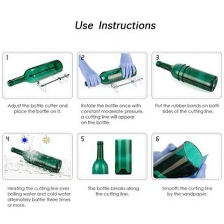bottle: (150, 57, 218, 94), (8, 142, 64, 176), (4, 58, 65, 88), (79, 63, 141, 90), (89, 137, 111, 176)
glass: (151, 138, 207, 179), (114, 137, 134, 177)
